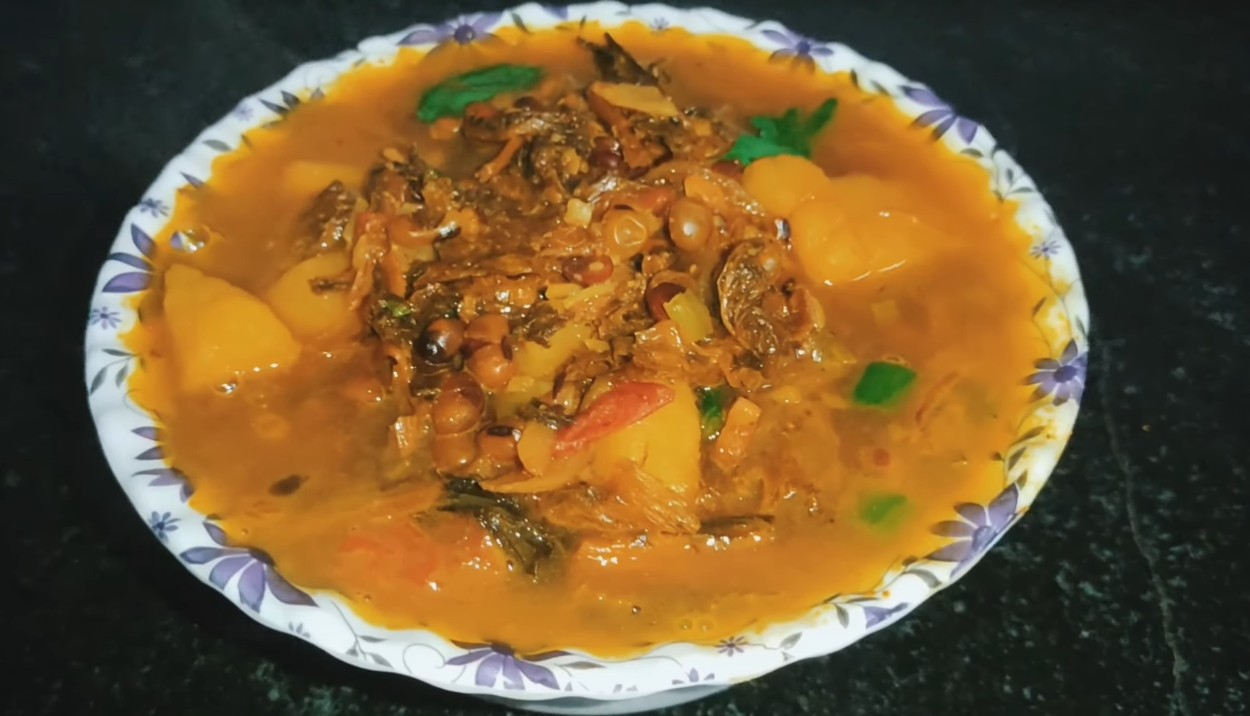gundruk: (243, 65, 933, 582)
